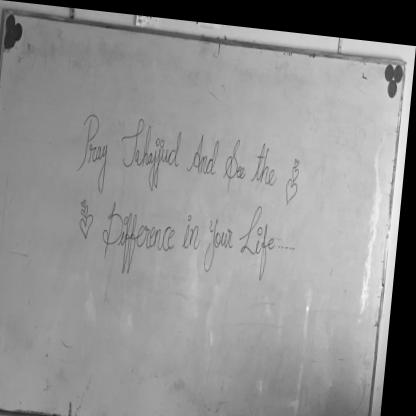Handwritten text: (77, 105, 287, 200), (105, 186, 281, 281)
Whiteboard: (0, 10, 406, 416)
